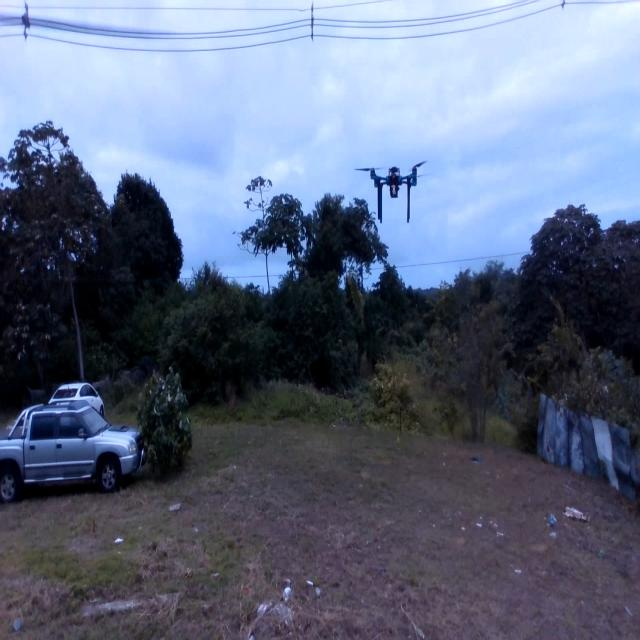-uav-: (348, 157, 441, 234)
